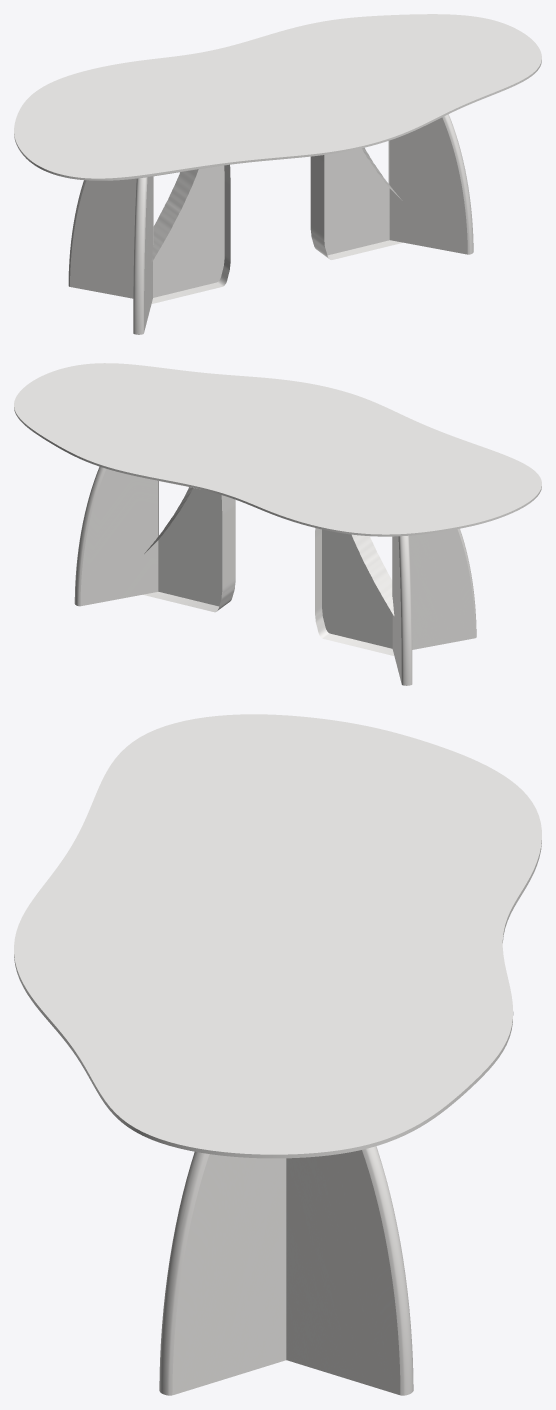
Rendered from purewhite_toplast_facet_plane.glb.
3 views of the same model, one above another, from view 1: azimuth 30°, elevation 25°; view 2: azimuth 150°, elevation 25°; view 3: azimuth 270°, elevation 25° (orthographic). The views are drawn at different scales.
Parts seen in each view (by area): view 1: facet_toplast, plane_singleright2, plane_single1, plane_single2, plane_singleleft1, plane_singleright1; view 2: facet_toplast, plane_singleleft2, plane_single1, plane_single2, plane_singleright1, plane_singleleft1; view 3: facet_toplast, plane_singleleft2, plane_singleright2.
Boxes of the visible parts, bbox=[...] form: facet_toplast: bbox=[14, 14, 541, 180]; plane_singleright2: bbox=[388, 114, 473, 254]; plane_single1: bbox=[151, 164, 230, 303]; plane_single2: bbox=[310, 147, 402, 259]; plane_singleleft1: bbox=[68, 176, 153, 298]; plane_singleright1: bbox=[133, 176, 153, 334]; facet_toplast: bbox=[14, 363, 541, 536]; plane_singleleft2: bbox=[74, 466, 158, 606]; plane_single1: bbox=[315, 528, 394, 655]; plane_single2: bbox=[143, 487, 235, 612]; plane_singleright1: bbox=[392, 528, 476, 649]; plane_singleleft1: bbox=[392, 535, 412, 685]; facet_toplast: bbox=[14, 714, 541, 1158]; plane_singleleft2: bbox=[286, 1146, 413, 1395]; plane_singleright2: bbox=[159, 1151, 286, 1395].
Bounding box in the file's own units: 7.5 × 2.49 × 3.8.
Materials: 1 (1 with a texture image).
